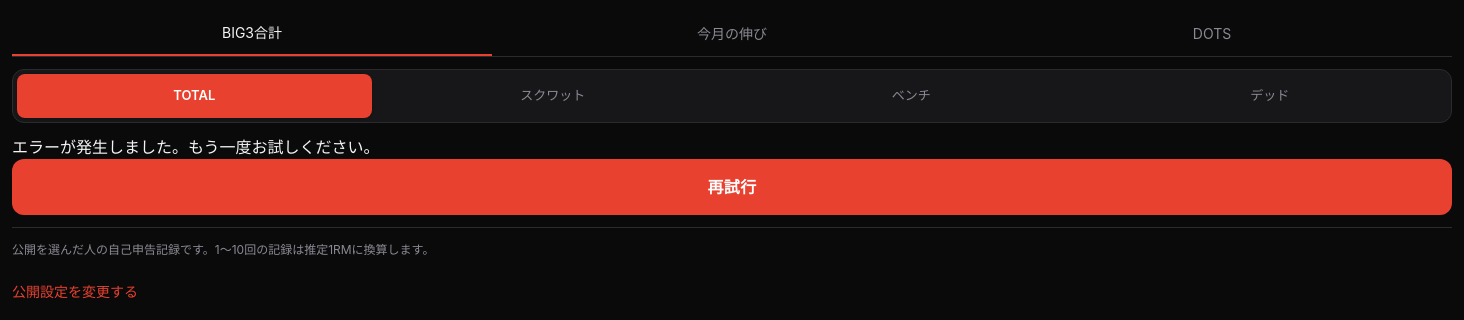
keeps a load failure on screen with retry and never claims the user is not participating
Click the button "DOTS".
click(1212, 34)  # box 972,12 -> 1452,56
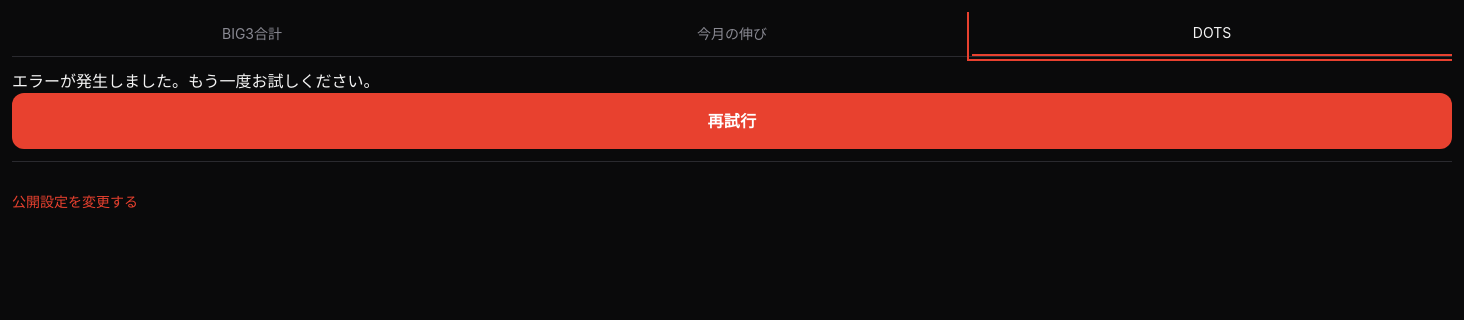
Expected: the message "エラーが発生しました。もう一度お試しください。" is shown, 12,71 -> 380,91
Click the button "再試行".
click(732, 121)  # box 12,93 -> 1452,149
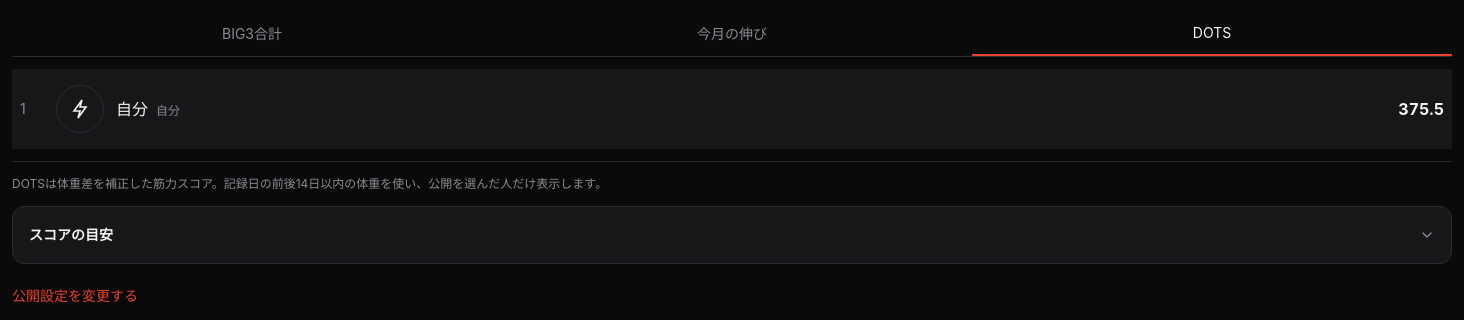
Expected: the text "375.5" is shown, 1398,97 -> 1444,121
